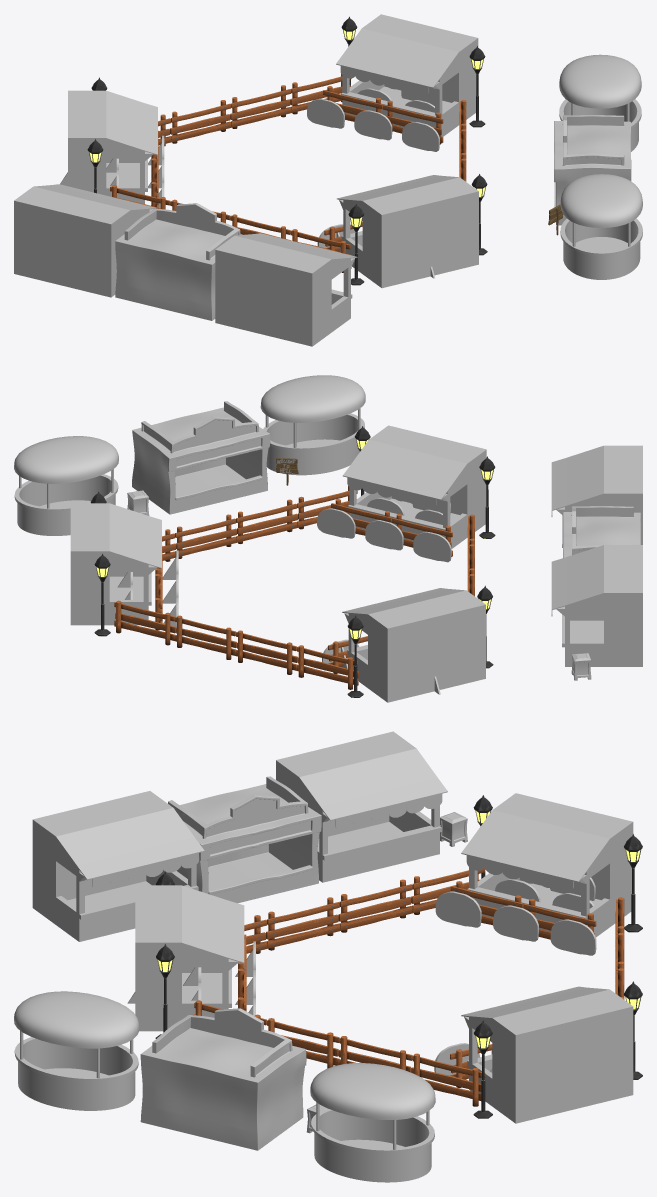
The model's file is Arena.fbx.
The picture shows the model from 3 angles, top to bottom: view 1: azimuth 30°, elevation 25°; view 2: azimuth 150°, elevation 25°; view 3: azimuth 270°, elevation 25°; orthographic projection. The views are drawn at different scales.
Visible parts, largest first — view 1: Stand3.011, Stand3.008, Stand3.010, Stand.003, Stand3.009, Stand2.004, Stand.002, Stand2.001, Fence_Bottom.001, Bush.015, Fence TopRight.001, Fence1.016 (+4 smaller); view 2: Stand3.011, Stand3.009, Stand.002, Stand3.008, Stand3.010, Stand2.004, Stand2.001, Fence_Bottom.001, Fence_TopLeft.001, Stand.003, Bush.009, Fence1.012 (+7 smaller); view 3: Stand3.011, Stand.002, Stand3.010, Stand3.009, Stand.003, Stand2.001, Stand2.004, Stand3.008, Fence TopRight.001, Fence_TopLeft.001, Bush.012, Fence1.014 (+6 smaller).
Boxes of the visible parts, x1,y1,x2,y2 form: Stand3.011: (14,184,357,346); Stand3.008: (337,175,478,288); Stand3.010: (336,14,478,136); Stand.003: (115,203,242,320); Stand3.009: (68,90,157,203); Stand2.004: (560,174,642,279); Stand.002: (554,115,631,225); Stand2.001: (559,54,641,151); Fence_Bottom.001: (158,74,351,146); Bush.015: (307,98,439,151); Fence TopRight.001: (110,185,351,272); Fence1.016: (323,86,443,144); Stand3.011: (551,445,642,666); Stand3.009: (342,588,485,702); Stand.002: (132,401,270,514); Stand3.008: (342,425,486,548); Stand3.010: (70,503,161,625); Stand2.004: (260,375,365,475); Stand2.001: (14,436,118,535); Fence_Bottom.001: (114,600,358,689); Fence_TopLeft.001: (162,486,357,561); Stand.003: (563,506,640,557); Bush.009: (317,508,451,562); Fence1.012: (331,499,452,556); Stand3.011: (32,731,447,941); Stand.002: (140,1008,306,1150); Stand3.010: (461,986,633,1123); Stand3.009: (461,793,633,937); Stand.003: (168,776,321,903); Stand2.001: (310,1063,435,1182); Stand2.004: (14,991,139,1110); Stand3.008: (135,885,244,1031); Fence TopRight.001: (244,868,485,953); Fence_TopLeft.001: (193,1000,485,1106); Bush.012: (435,891,596,955); Fence1.014: (450,881,596,949).
Size of what is drawn, in the model's own units: 11441 by 1440 by 8345.
